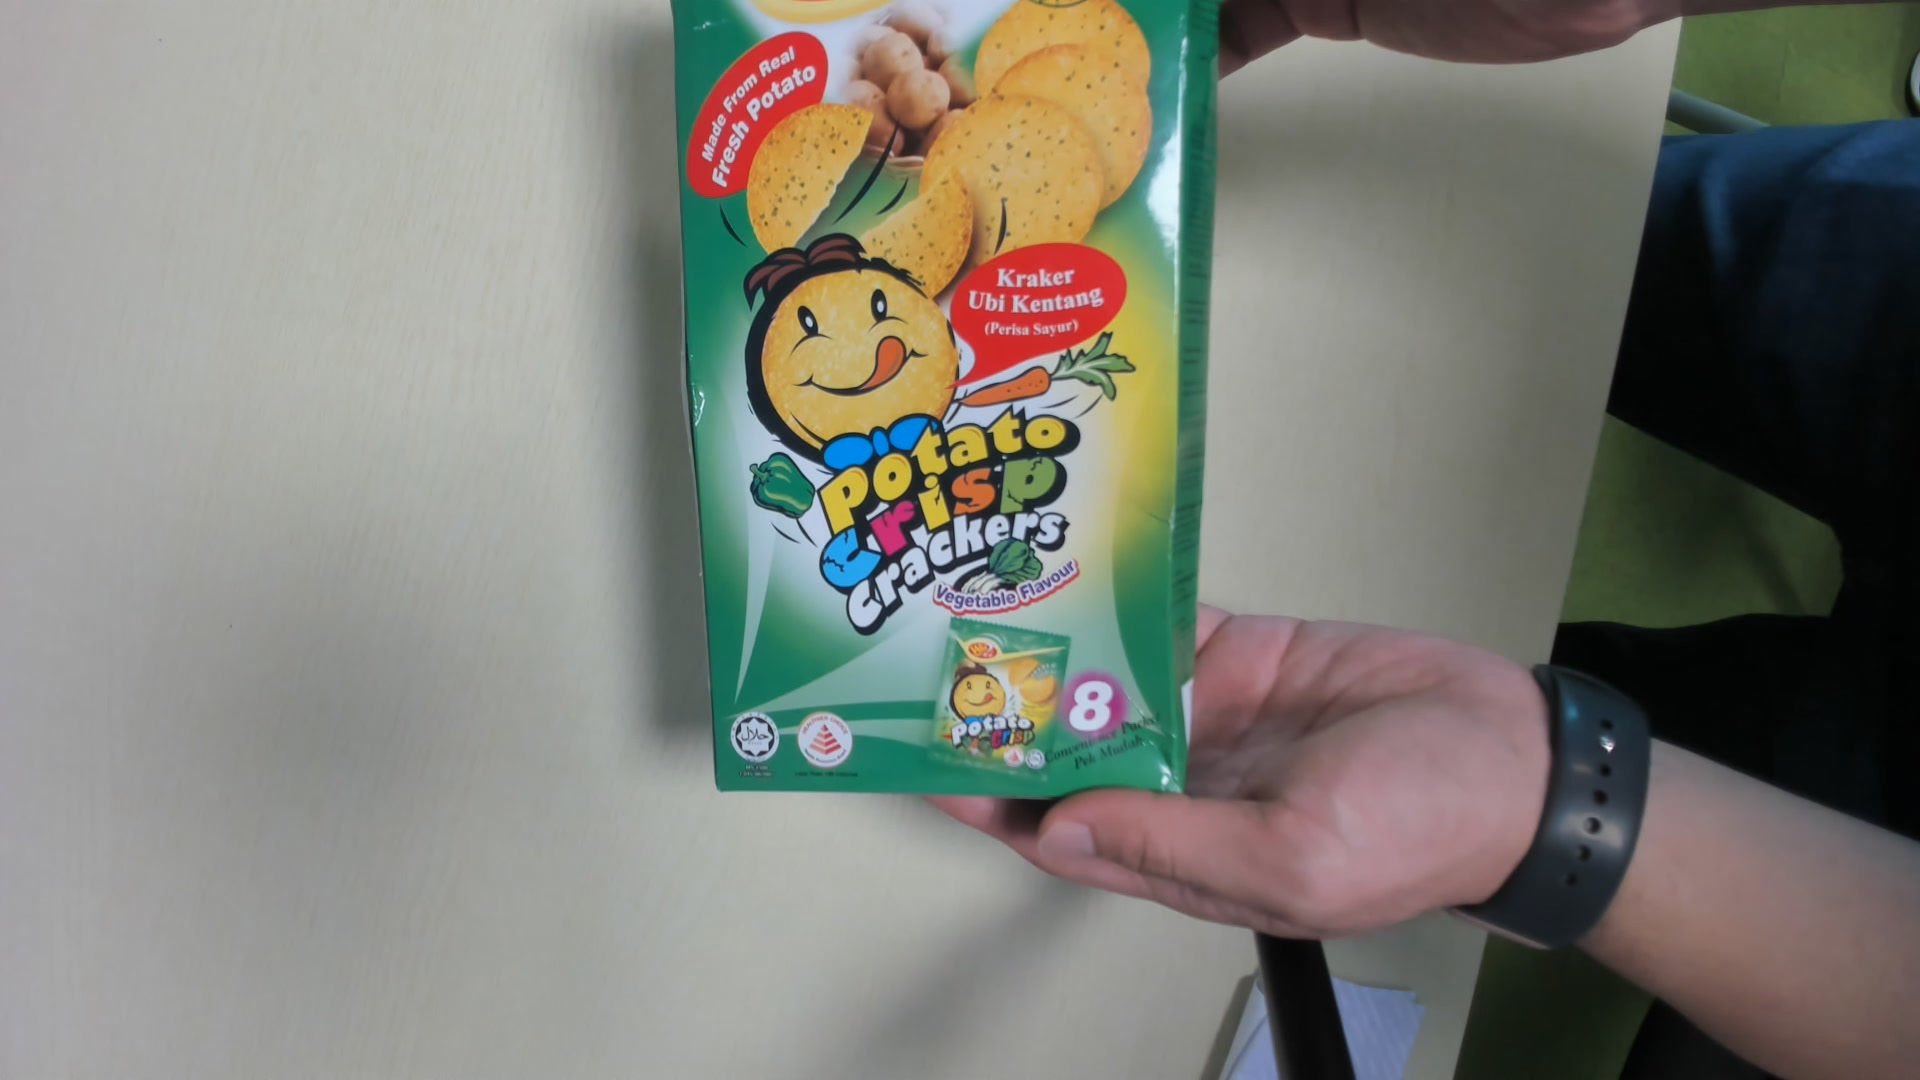PotatoChipsKeropok_100-200g_Halal_Healthy: (675, 8, 1209, 794)
